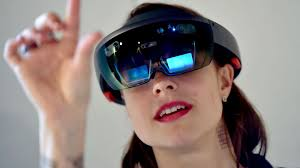hololens: (92, 17, 245, 90)
